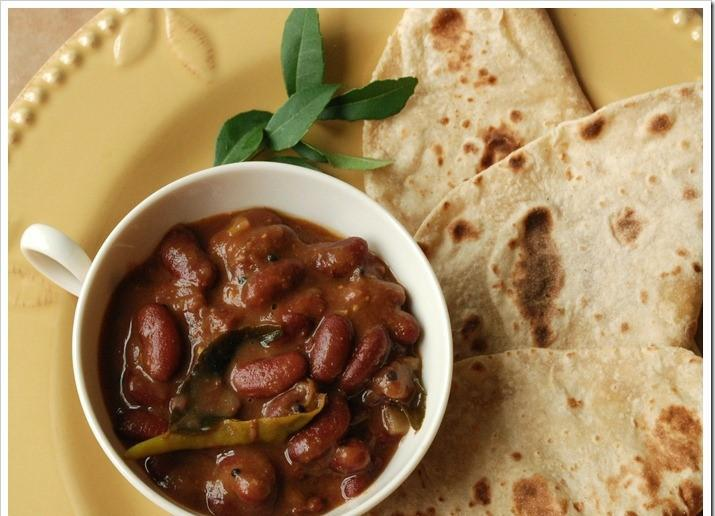RajmaCurry: (99, 210, 421, 516)
